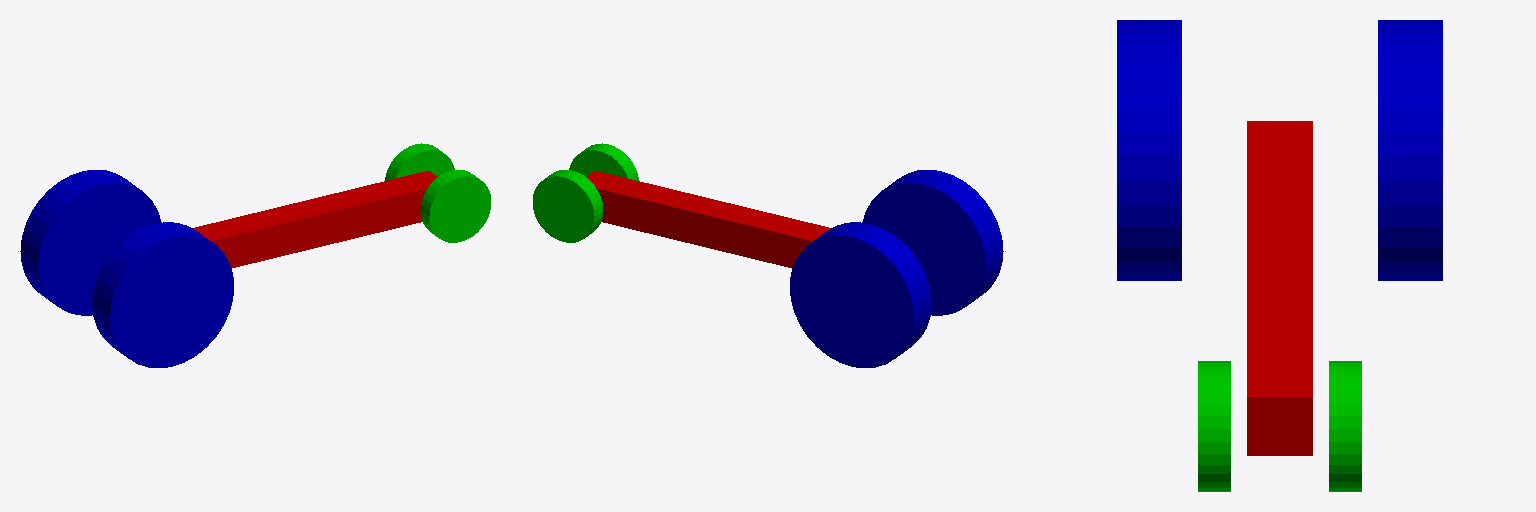
URDF robot description (racecar):
<?xml version="1.0"?>
<robot name="racecar">
    <material name="red">
        <color rgba="0.8 0 0 1"/>
    </material>
    <material name="green">
        <color rgba="0 0.8 0 1"/>
    </material>
    <material name="blue">
        <color rgba="0 0 0.8 1"/>
    </material>

    <link name="body_link">
        <visual>
            <origin xyz="0 0 0" rpy="-1.5708 0 0"/>
            <geometry>
                <box size="1 0.1 0.1"/>
            </geometry>
            <material name="red"/>
        </visual>
        <collision>
            <origin xyz="0 0 0" rpy="-1.5708 0 0"/>
            <geometry>
                <box size="1 0.1 0.1"/>
            </geometry>
            <material name="red"/>
        </collision>
        <inertial>
            <origin xyz="0 0 0"/>
            <mass value="1"/>
            <inertia ixx="1" ixy="0" iyy="1" iyz="0" izz="1" izx="0"/>
        </inertial>
    </link>

    <link name="right_rear_wheel_link">
        <visual>
            <origin xyz="0 0 0" rpy="-1.5708 0 0"/>
            <geometry>
                <cylinder length="0.1" radius="0.2"/>
            </geometry>
            <material name="blue"/>
        </visual>
        <collision>
            <origin xyz="0 0 0" rpy="1.5708 0 0"/>
            <geometry>
                <cylinder length="0.1" radius="0.2"/>
            </geometry>
        </collision>
    </link>

    <link name="left_rear_wheel_link">
        <visual>
            <origin xyz="0 0 0" rpy="1.5708 0 0"/>
            <geometry>
                <cylinder length="0.1" radius="0.2"/>
            </geometry>
            <material name="blue"/>
        </visual>
        <collision>
            <origin xyz="0 0 0" rpy="1.5708 0 0"/>
            <geometry>
                <cylinder length="0.1" radius="0.2"/>
            </geometry>
        </collision>
    </link>

    <link name="right_front_wheel_link">
        <visual>
            <origin xyz="0 0 0" rpy="-1.5708 0 0"/>
            <geometry>
                <cylinder length="0.05" radius="0.1"/>
            </geometry>
            <material name="green"/>
        </visual>
        <collision>
            <origin xyz="0 0 0" rpy="1.5708 0 0"/>
            <geometry>
                <cylinder length="0.05" radius="0.1"/>
            </geometry>
        </collision>
    </link>

    <link name="left_front_wheel_link">
        <visual>
            <origin xyz="0 0 0" rpy="1.5708 0 0"/>
            <geometry>
                <cylinder length="0.05" radius="0.1"/>
            </geometry>
            <material name="green"/>
        </visual>
        <collision>
            <origin xyz="0 0 0" rpy="1.5708 0 0"/>
            <geometry>
                <cylinder length="0.05" radius="0.1"/>
            </geometry>
        </collision>
    </link>

    <joint name="right_rear_wheel_joint" type="continuous">
        <parent link="body_link"/>
        <child link="right_rear_wheel_link"/>
        <origin xyz="-0.5 -0.2 0"/>
        <axis xyz="0 1 0"/>
    </joint>

    <joint name="left_rear_wheel_joint" type="continuous">
        <parent link="body_link"/>
        <child link="left_rear_wheel_link"/>
        <origin xyz="-0.5 0.2 0"/>
        <axis xyz="0 1 0"/>
    </joint>

    <joint name="right_front_wheel_joint" type="continuous">
        <parent link="body_link"/>
        <child link="right_front_wheel_link"/>
        <origin xyz="0.5 -0.1 0"/>
        <axis xyz="0 1 0"/>
    </joint>

    <joint name="left_front_wheel_joint" type="continuous">
        <parent link="body_link"/>
        <child link="left_front_wheel_link"/>
        <origin xyz="0.5 0.1 0"/>
        <axis xyz="0 1 0"/>
    </joint>
</robot>

--- What the picture shows (computed from the rendered views, not written in the file) ---
3 views of the same robot in one strip: view 1: azimuth 30°, elevation 25°; view 2: azimuth 150°, elevation 25°; view 3: azimuth 270°, elevation 25° (orthographic).
Model racecar with 5 links and 4 joints (4 continuous), rooted at body_link, posed every joint at zero.
Visible links, largest first — view 1: right_rear_wheel_link, left_rear_wheel_link, body_link, right_front_wheel_link, left_front_wheel_link; view 2: left_rear_wheel_link, right_rear_wheel_link, body_link, left_front_wheel_link, right_front_wheel_link; view 3: body_link, right_rear_wheel_link, left_rear_wheel_link, right_front_wheel_link, left_front_wheel_link.
Link boxes in pixels (x1=…): right_rear_wheel_link: x1=92, y1=222, x2=233, y2=367; left_rear_wheel_link: x1=20, y1=170, x2=161, y2=315; body_link: x1=193, y1=171, x2=437, y2=268; right_front_wheel_link: x1=420, y1=170, x2=490, y2=242; left_front_wheel_link: x1=385, y1=143, x2=454, y2=180; left_rear_wheel_link: x1=790, y1=222, x2=931, y2=367; right_rear_wheel_link: x1=862, y1=170, x2=1003, y2=315; body_link: x1=586, y1=171, x2=830, y2=268; left_front_wheel_link: x1=533, y1=170, x2=603, y2=242; right_front_wheel_link: x1=569, y1=143, x2=638, y2=180; body_link: x1=1247, y1=121, x2=1312, y2=455; right_rear_wheel_link: x1=1117, y1=20, x2=1181, y2=280; left_rear_wheel_link: x1=1378, y1=20, x2=1442, y2=280; right_front_wheel_link: x1=1198, y1=361, x2=1230, y2=491; left_front_wheel_link: x1=1329, y1=361, x2=1361, y2=491.
Size in the robot's own frame: 1.3 by 0.5 by 0.4 metres.
Geometry: primitives only (box / cylinder / sphere), no mesh files.